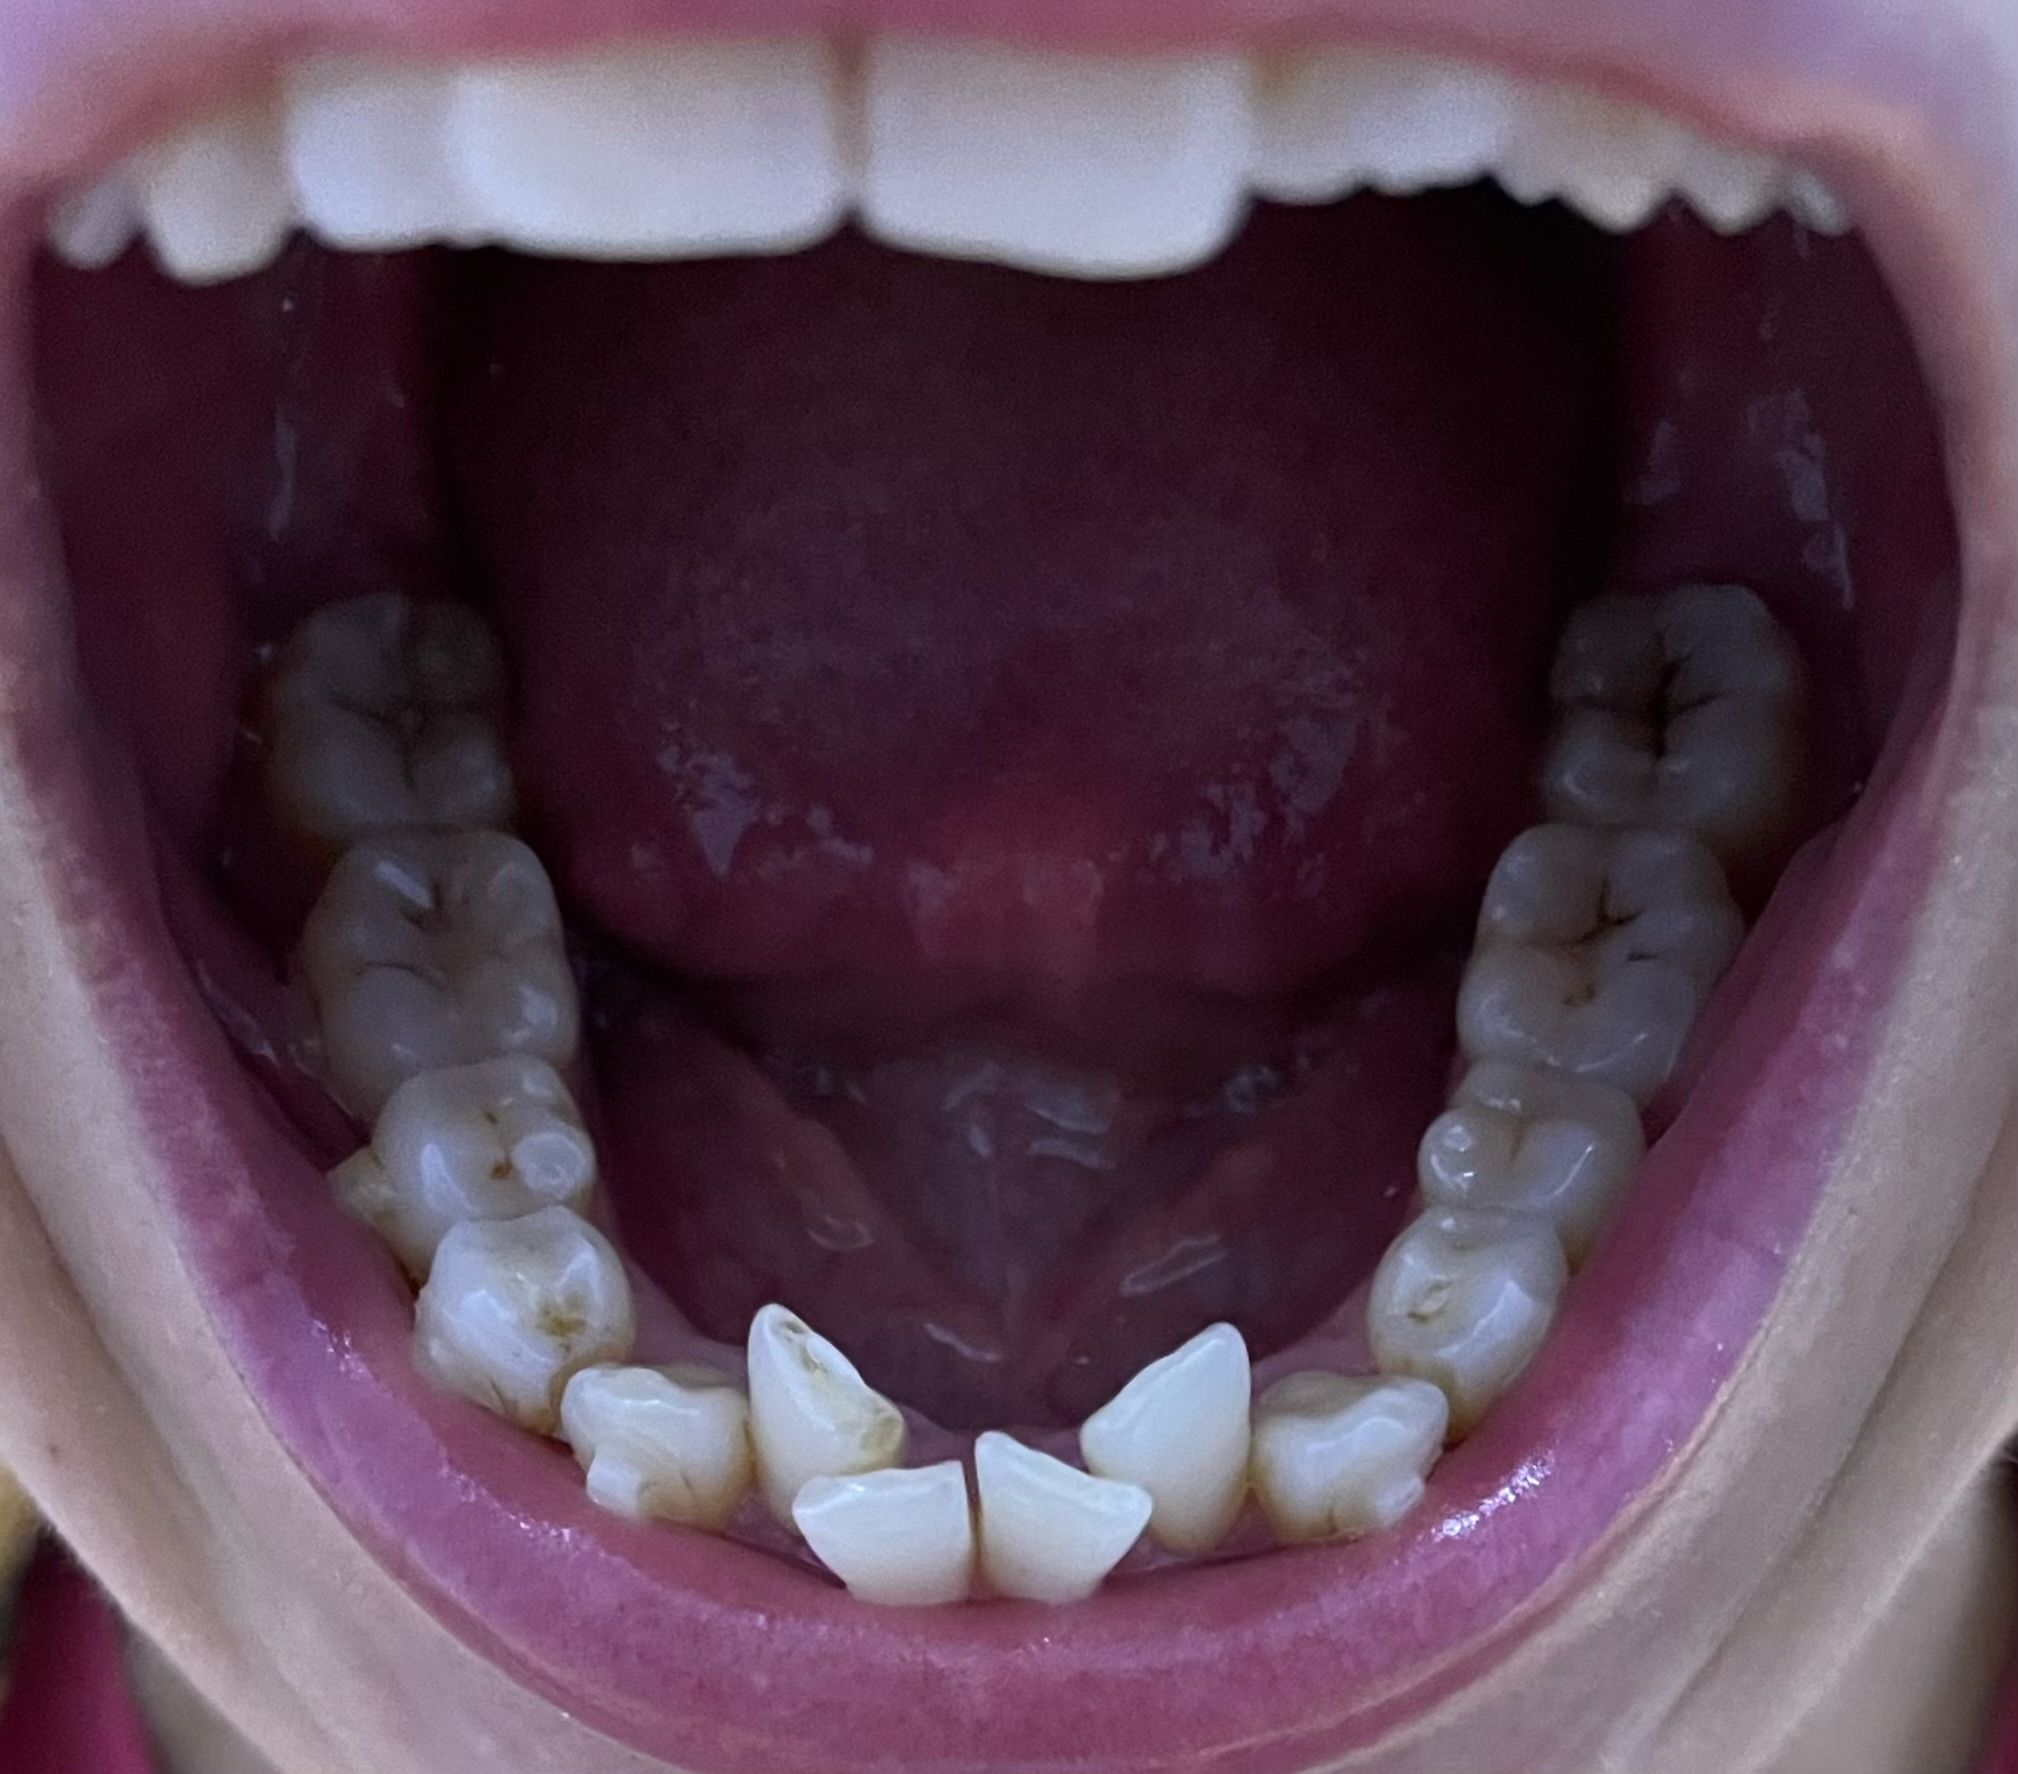teeth: (868, 43, 1253, 271), (474, 38, 834, 254), (1476, 825, 1731, 1067), (311, 834, 582, 1059), (405, 1194, 638, 1417), (1556, 602, 1790, 825), (338, 1055, 594, 1254), (1371, 1199, 1579, 1438), (295, 600, 503, 820), (1081, 1318, 1251, 1563), (1417, 1064, 1637, 1225), (1263, 1364, 1438, 1539), (789, 1463, 976, 1621), (1284, 58, 1508, 185), (745, 1306, 903, 1484), (980, 1434, 1146, 1594), (570, 1366, 741, 1520), (304, 69, 455, 238)
